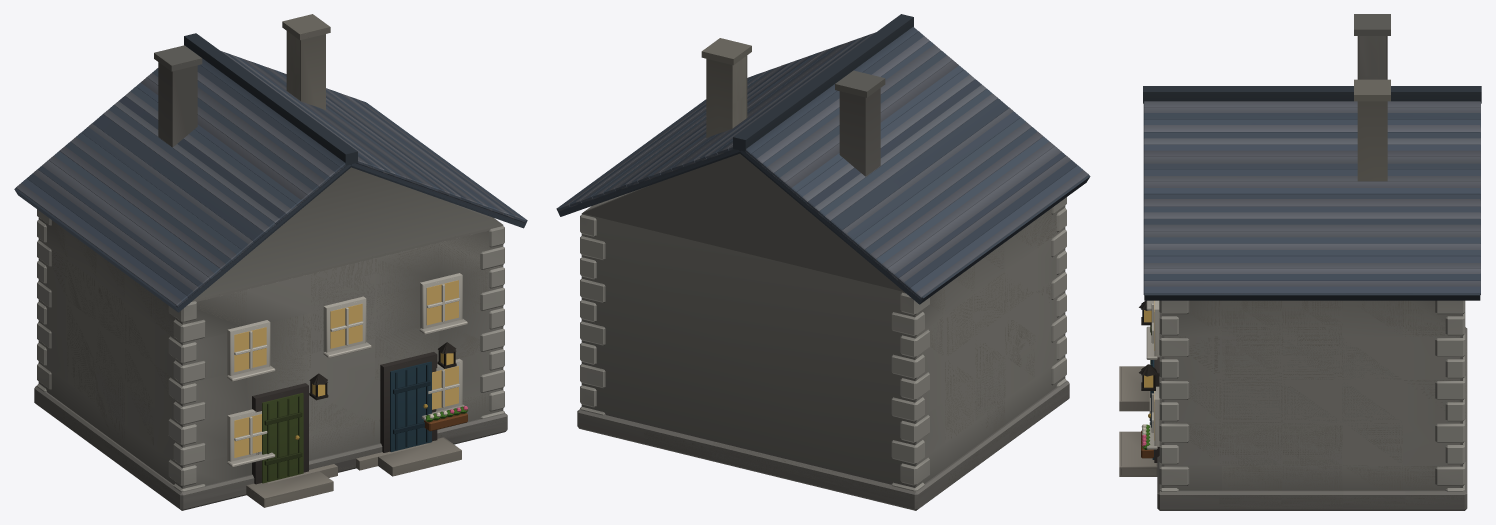
Rendered from houses-stone.glb.
3 renders of one model, left to right at view 1: azimuth 30°, elevation 25°; view 2: azimuth 150°, elevation 25°; view 3: azimuth 270°, elevation 25°, orthographic. The views are drawn at different scales.
Visible parts, largest first — view 1: house_stone_l0, house_stone_l1, house_stone_l0__lod, house_stone_l0__glow, house_stone_l1__lod, house_stone_l1__glow; view 2: house_stone_l0__lod, house_stone_l0, house_stone_l1, house_stone_l1__lod; view 3: house_stone_l0, house_stone_l1, house_stone_l0__lod, house_stone_l1__lod.
Part boxes in pixels (x1,y1,x2,y2): house_stone_l0: [16, 46, 526, 510]; house_stone_l1: [16, 14, 525, 505]; house_stone_l0__lod: [14, 33, 527, 488]; house_stone_l0__glow: [234, 280, 458, 457]; house_stone_l1__lod: [246, 14, 462, 507]; house_stone_l1__glow: [312, 366, 458, 409]; house_stone_l0__lod: [556, 14, 1090, 487]; house_stone_l0: [558, 26, 1087, 510]; house_stone_l1: [558, 32, 1088, 500]; house_stone_l1__lod: [701, 38, 751, 137]; house_stone_l0: [1121, 14, 1480, 510]; house_stone_l1: [1121, 80, 1480, 509]; house_stone_l0__lod: [1119, 14, 1481, 487]; house_stone_l1__lod: [1119, 79, 1390, 446].
Bounding box in the file's own units: 9.91 × 9.58 × 8.41.
